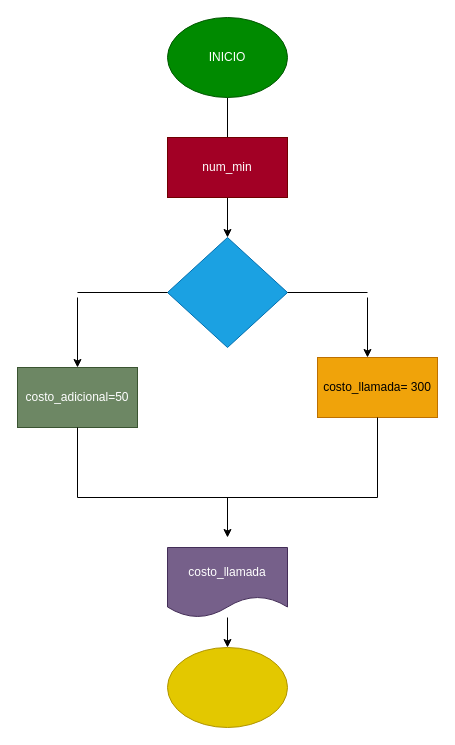
Image size: 455x745. Some labels were removed from this diagram. Each missing label, with the centre of its shape:
FIN: [227,687]
num_min<=3: [227,292]
